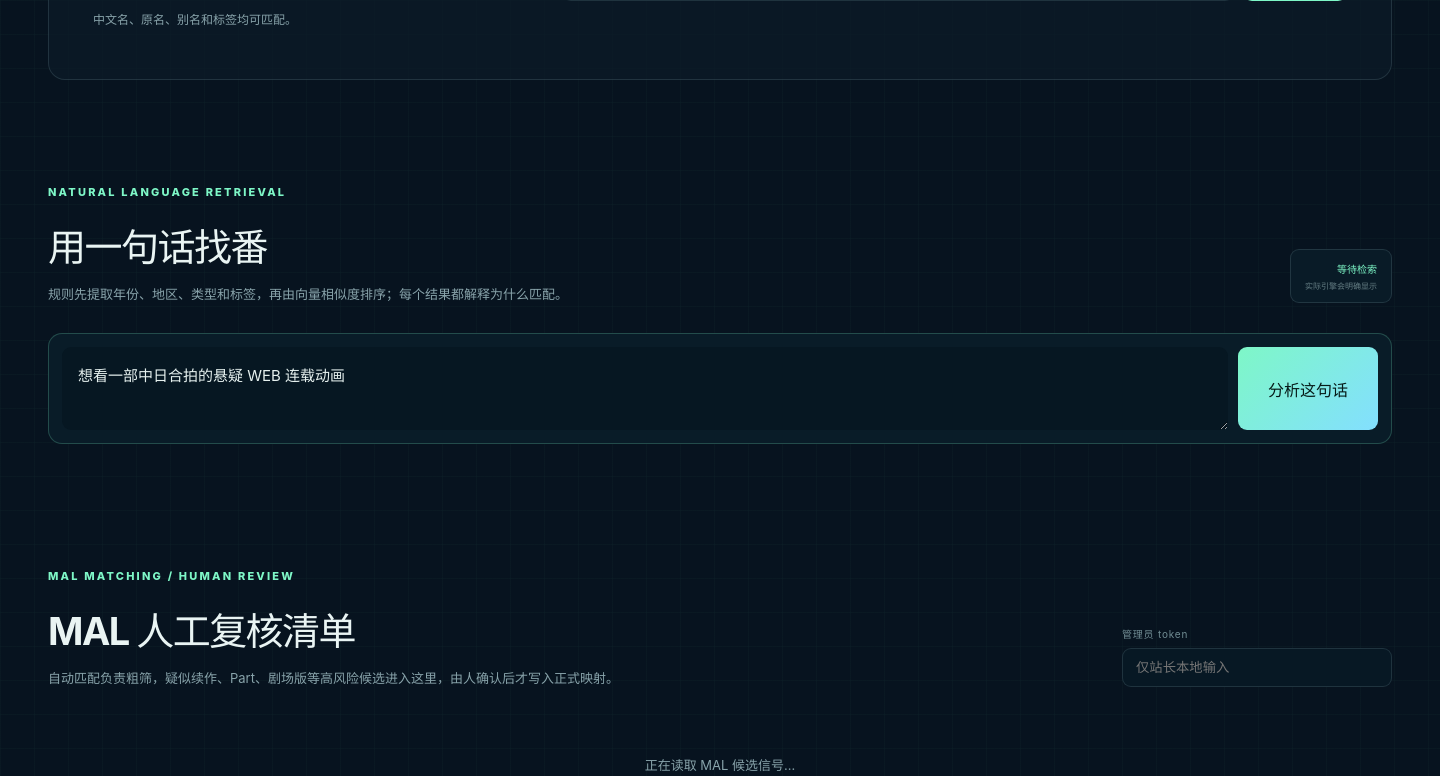
Test case: App › explains natural-language retrieval results and discloses the active engine
(page scrolled)
Click the button "分析这句话" at coordinates (1308, 388), box [1238,347,1378,430]
(page scrolled)
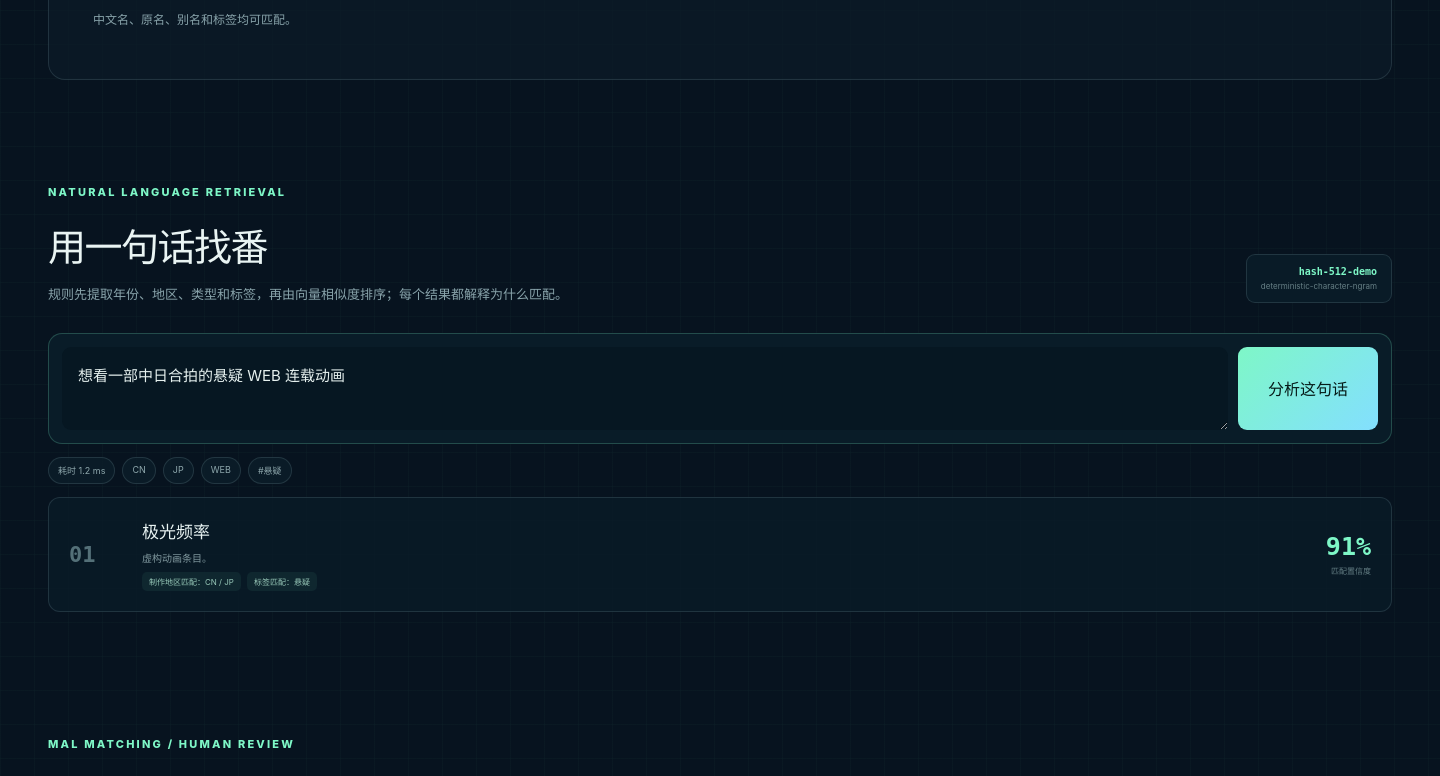
Check: the text "hash-512-demo" is shown, box [1299,266,1377,276]
Check: the list item "制作地区匹配：CN / JP" is shown, box [142,572,241,590]
